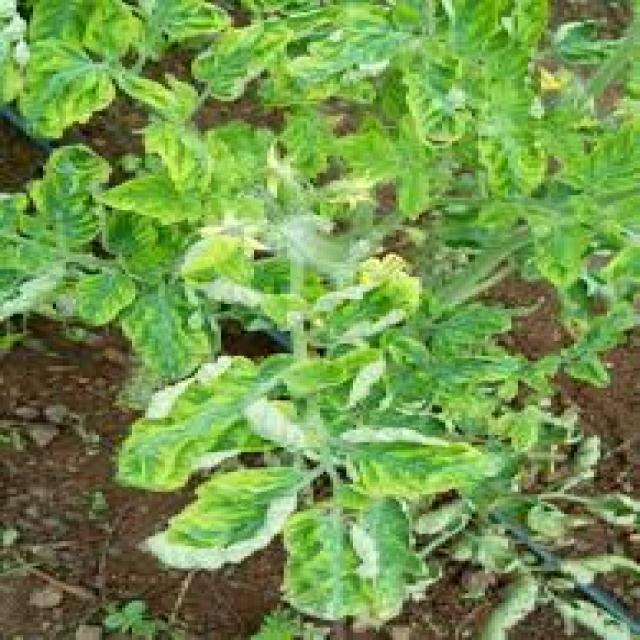Nutirtion_deficie: (0, 0, 592, 640)
